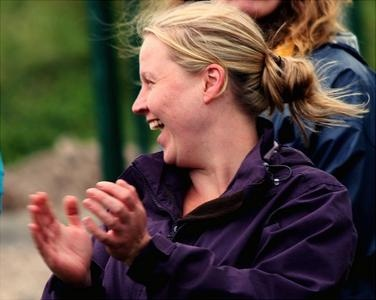person without safety: (42, 2, 351, 300)
